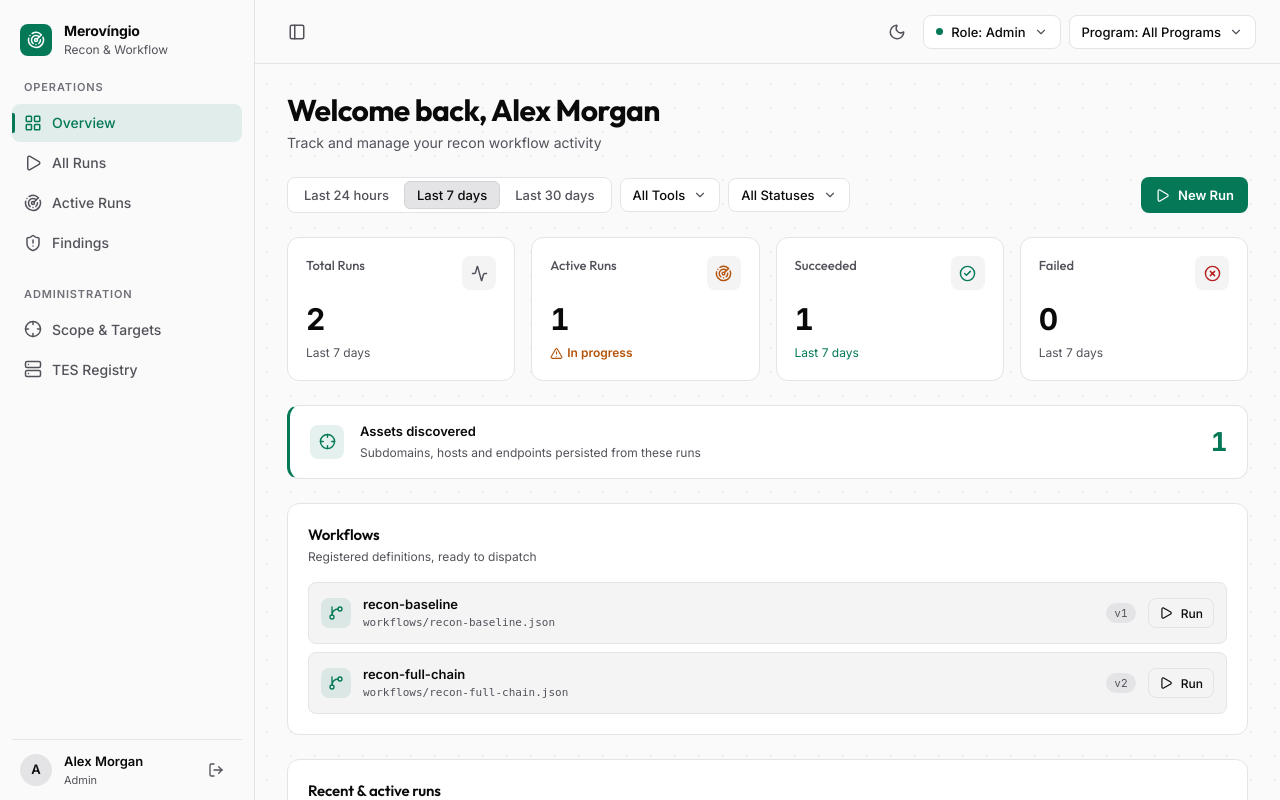
Scenario: runs screens › opens the run detail with hosts and tool jobs
The width and height of the screenshot is (1280, 800).
expect the navigation bar named "main navigation" is shown: met, box [0,0,255,799]
Click the link "All Runs" at (65, 162), box [24,154,106,172]
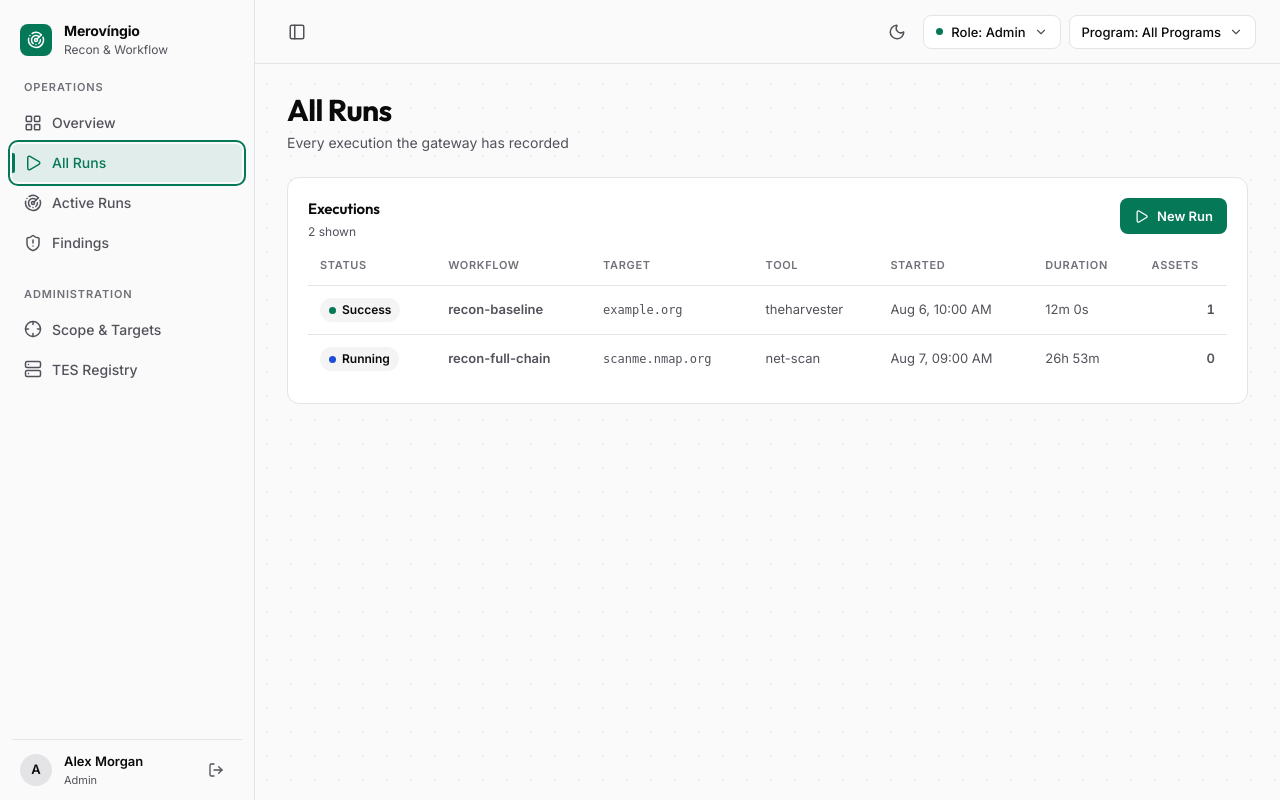
Click the button with aria-label "open run" at (768, 310), box [308,286,1227,334]
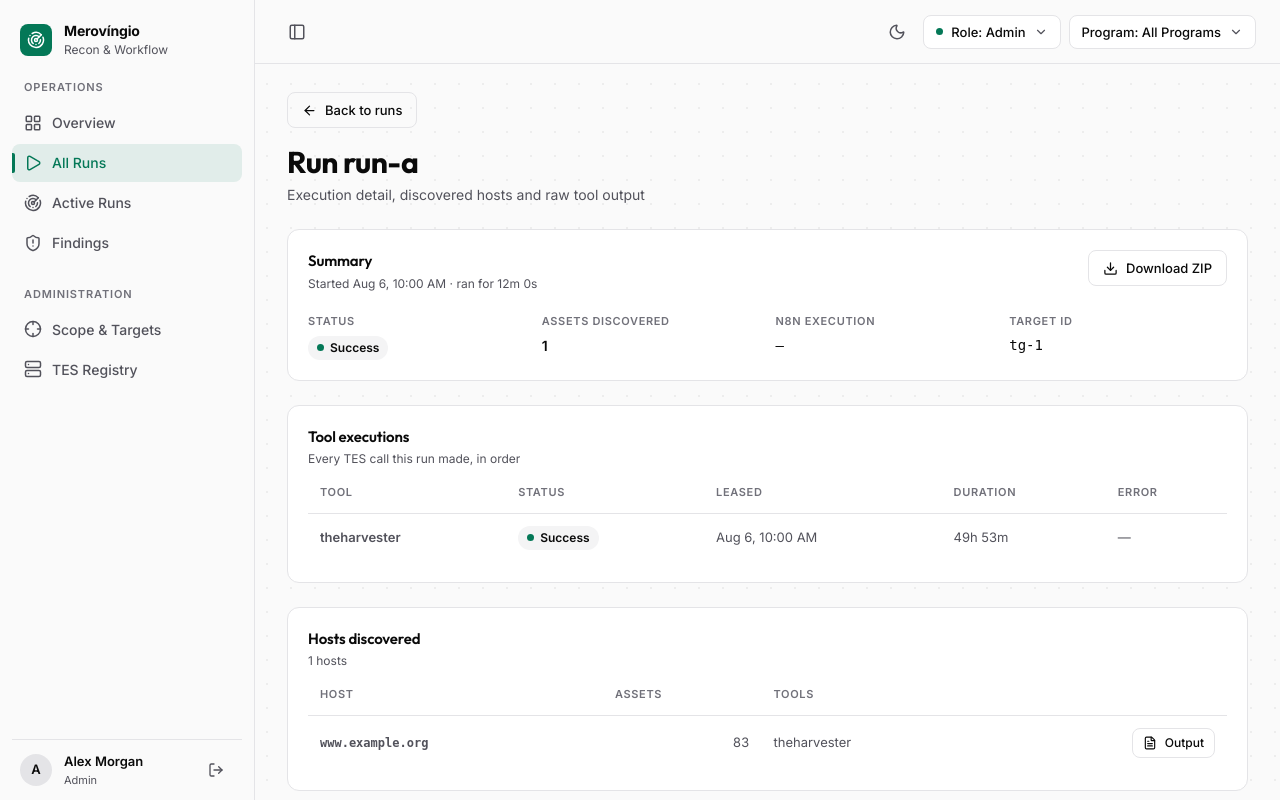
expect the text "www.example.org" is shown: met, box [308,715,603,770]
expect the heading "Hosts discovered" is shown: met, box [308,628,420,650]
expect the heading "Tool executions" is shown: met, box [308,426,409,446]
